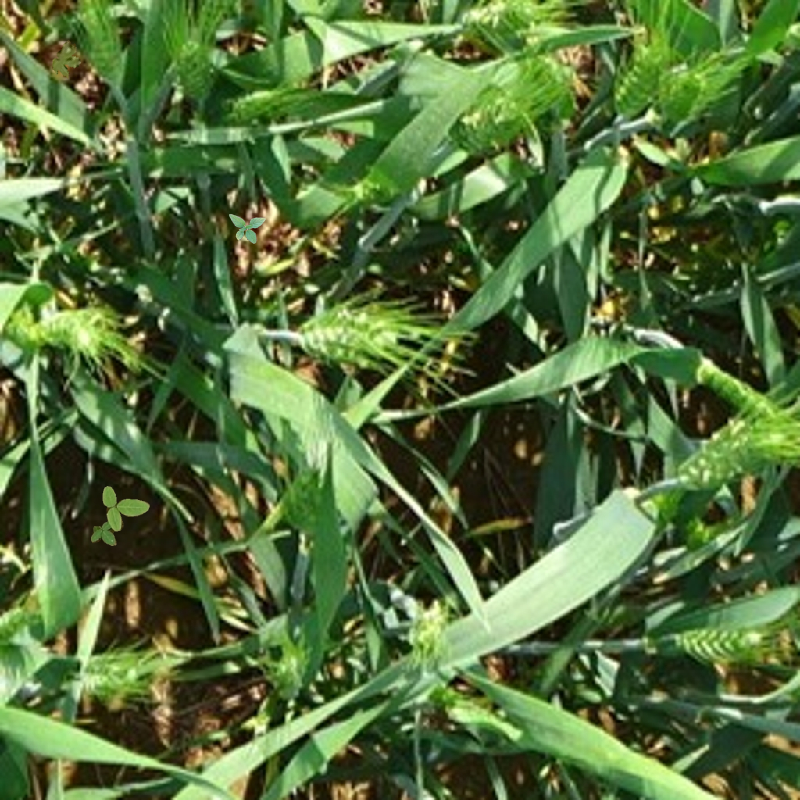spikelet: (674, 415, 776, 490), (291, 304, 402, 361), (452, 82, 551, 145), (609, 43, 669, 120), (32, 302, 112, 356), (75, 651, 163, 698), (671, 621, 764, 662), (654, 61, 708, 131), (458, 1, 543, 41), (165, 39, 216, 101), (231, 90, 292, 123), (337, 175, 388, 206)
weed: (91, 486, 150, 546), (44, 38, 90, 83), (229, 214, 266, 244)
